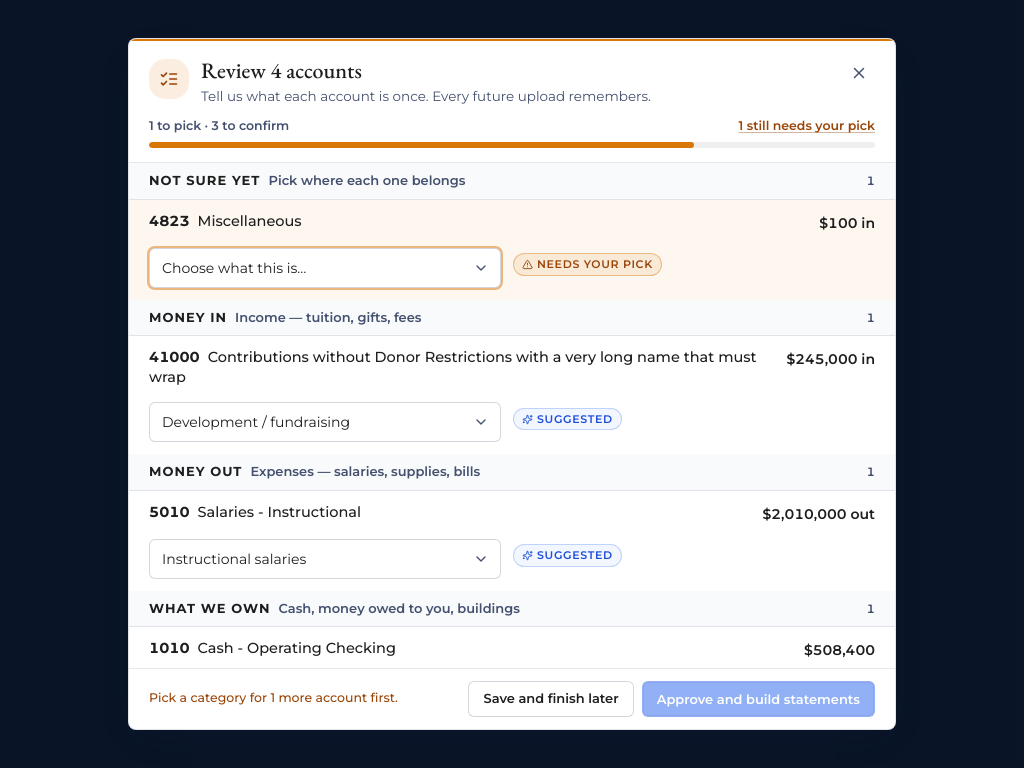
Test: the host (wired to the intake) › a failed save keeps the popup open with the picks and says so
This screenshot has width=1024, height=768.
Select "Other revenue" in the dropdown with test id "review-select-4823" at (325, 268), box [149,248,501,288]
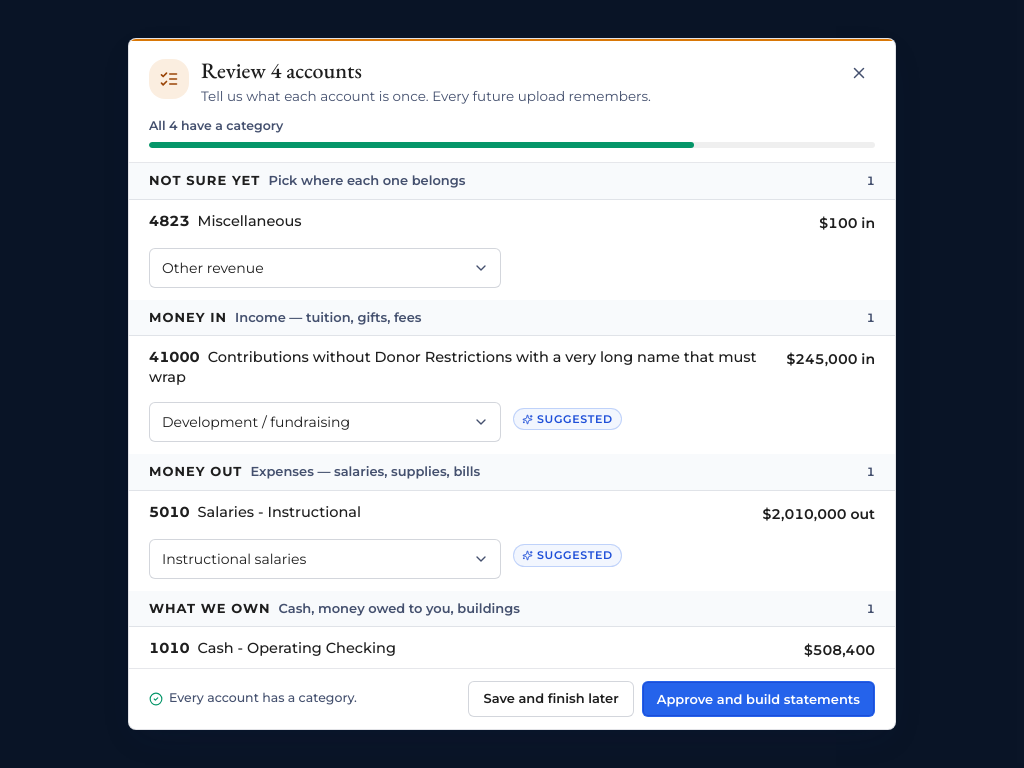
Click the button with test id "review-approve".
click(758, 699)  # box [642,681,875,717]
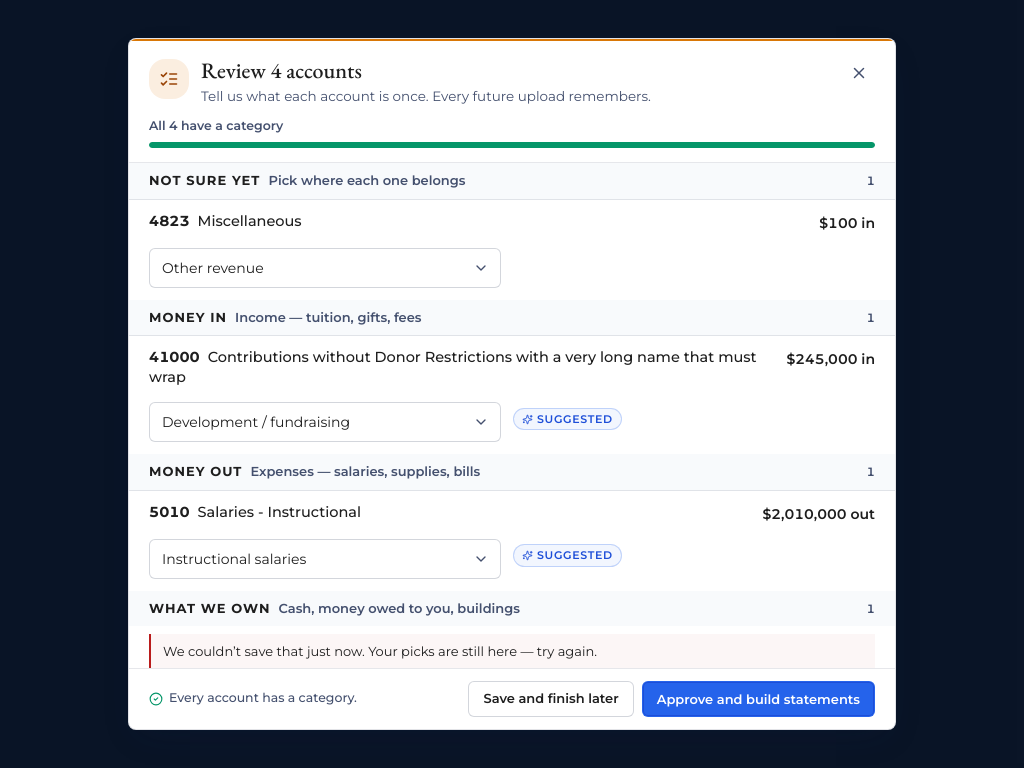
Now the message "We couldn’t save that just now. Your picks are still here — try again." is shown, box [149,634,875,668]
